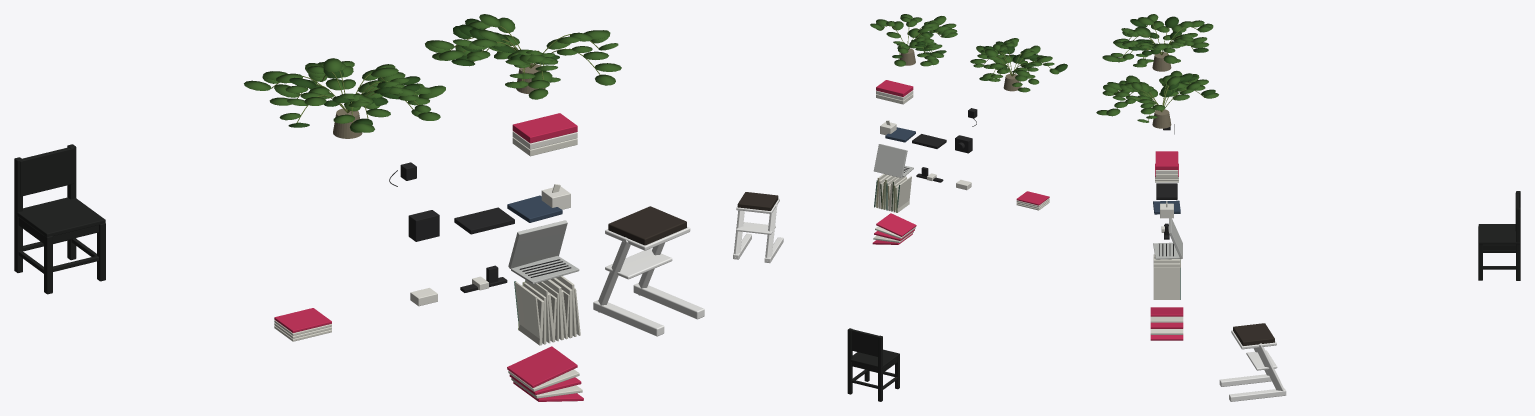
The picture shows the model from 3 angles, left to right: view 1: azimuth 30°, elevation 25°; view 2: azimuth 150°, elevation 25°; view 3: azimuth 270°, elevation 25°; orthographic projection. The views are drawn at different scales.
Parts seen in each view (by area): view 1: black-child-chair15 / observed low seat, black-child-chair15 / observed rectangular back, white-photo-line-chair27 / observed dark seat pad candidate, observed inclined silver board, observed red folder4, upper stack box2, observed keyboard base slab, observed flat dark device, white-photo-line-chair27 / smaller white footboard candidate, white-photo-line-chair27 / floor runner candidate0, white-photo-line-chair27 / floor runner candidate1, visible magazine 13 paper (+5 smaller); view 2: observed inclined silver board, white-photo-line-chair27 / observed dark seat pad candidate, black-child-chair15 / observed rectangular back, observed red folder4, black-child-chair15 / observed low seat, upper stack box2, black-child-chair15 / rear post.001, observed flat dark device, white-photo-line-chair27 / observed inclined side rail0, black-child-chair15 / rear post, white-photo-line-chair27 / smaller white footboard candidate; view 3: visible magazine 1 paper, black-child-chair15 / observed low seat, white-photo-line-chair27 / observed dark seat pad candidate, white-photo-line-chair27 / floor runner candidate1, upper stack box2, white-photo-line-chair27 / floor runner candidate0, white-photo-line-chair27 / observed inclined side rail1.
Part boxes in pixels (x1,y1,x2,y2): black-child-chair15 / observed low seat: (14,197,105,237); black-child-chair15 / observed rectangular back: (20,147,73,196); white-photo-line-chair27 / observed dark seat pad candidate: (608,206,686,245); observed inclined silver board: (508,220,567,268); observed red folder4: (507,346,577,387); upper stack box2: (512,113,577,143); observed keyboard base slab: (511,256,579,284); observed flat dark device: (454,207,514,234); white-photo-line-chair27 / smaller white footboard candidate: (605,249,672,279); white-photo-line-chair27 / floor runner candidate0: (593,300,664,336); white-photo-line-chair27 / floor runner candidate1: (633,283,704,319); visible magazine 13 paper: (515,281,540,339); observed inclined silver board: (873,144,907,177); white-photo-line-chair27 / observed dark seat pad candidate: (737,192,778,210); black-child-chair15 / observed rectangular back: (851,329,878,356); observed red folder4: (876,213,916,236); black-child-chair15 / observed low seat: (851,349,899,368); upper stack box2: (876,80,913,96); black-child-chair15 / rear post.001: (847,328,852,394); observed flat dark device: (912,134,946,148); white-photo-line-chair27 / observed inclined side rail0: (765,205,777,261); black-child-chair15 / rear post: (878,335,882,401); white-photo-line-chair27 / smaller white footboard candidate: (736,222,775,234); visible magazine 1 paper: (1153,267,1179,299); black-child-chair15 / observed low seat: (1478,224,1519,244); white-photo-line-chair27 / observed dark seat pad candidate: (1233,323,1274,345); white-photo-line-chair27 / floor runner candidate1: (1229,388,1286,401); upper stack box2: (1155,151,1178,169); white-photo-line-chair27 / floor runner candidate0: (1219,374,1271,386); white-photo-line-chair27 / observed inclined side rail1: (1255,343,1284,391).
Size of the model in its own units: 2.85 by 2.17 by 3.37.
